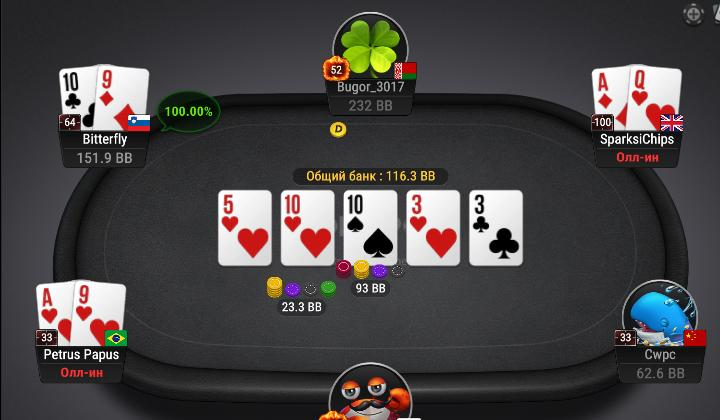10c: (59, 67, 96, 131)
10h: (282, 189, 333, 265)
10s: (344, 192, 396, 265)
3c: (471, 192, 524, 265)
3h: (407, 190, 460, 265)
5h: (219, 191, 271, 265)
9d: (95, 65, 149, 132)
9h: (74, 281, 125, 345)
Ad: (591, 65, 631, 135)
Ah: (34, 282, 74, 348)
Qh: (629, 65, 681, 132)
